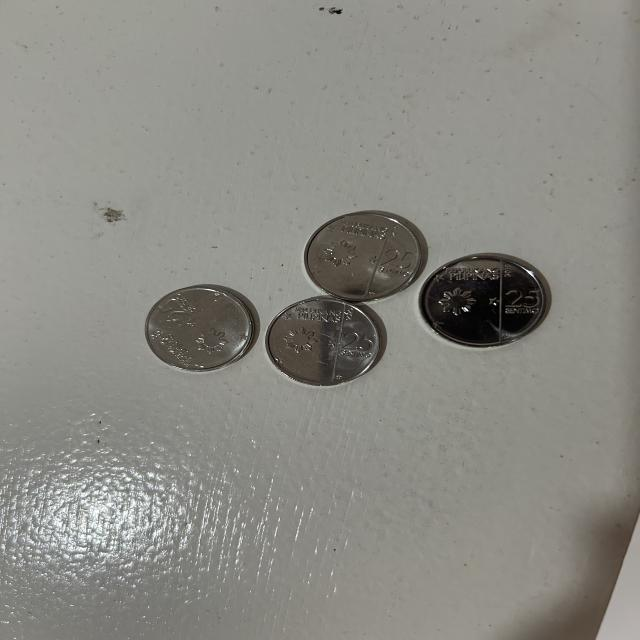25Cent_New_Front: (334, 325, 380, 362), (374, 245, 418, 282), (500, 281, 540, 318), (154, 295, 198, 321)
